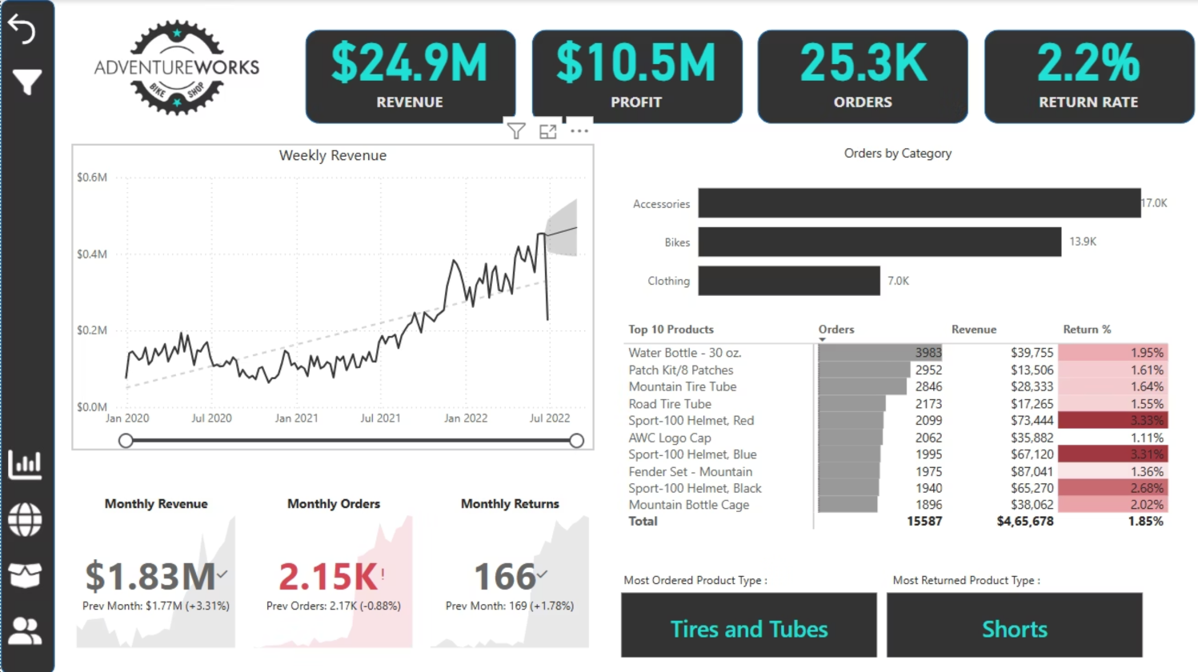

The page's visual inventory and layout, read from the dashboard file:
{"tool":"powerbi","page":{"name":"Excel Dashboard","canvas":[1280,720],"ordinal":0},"visuals":[{"type":"image","title":"A Logo","box":[76.1,0,224.8,145.1],"z":0},{"type":"card","fields":{"Values":["Measure Table.Total Revenue"]},"box":[319,1.2,235.2,137.1],"z":0,"group":"g2"},{"type":"group","id":"g1","title":"KPI Background","box":[325.3,31.7,950.1,100.3],"z":0,"group":"g3"},{"type":"shape","box":[325.3,31.7,225,100.3],"z":0,"group":"g1"},{"type":"actionButton","box":[4,474.7,50.4,44.3],"z":0,"group":"g4"},{"type":"shape","title":"Left KPI","box":[0,0,57.5,720.2],"z":1000},{"type":"group","id":"g2","title":"KPI CARDS","box":[319,1.2,960.9,137],"z":1000,"group":"g3"},{"type":"card","fields":{"Values":["Measure Table.Total Profit"]},"box":[560.9,1.2,235.2,137.1],"z":1000,"group":"g2"},{"type":"shape","box":[567,31.7,225,100.3],"z":1000,"group":"g1"},{"type":"actionButton","box":[4,533.8,50.4,44.3],"z":1000,"group":"g4"},{"type":"group","id":"g3","title":"All KPI","box":[319,1.2,960.9,137],"z":2000},{"type":"card","fields":{"Values":["Measure Table.Order Target"]},"box":[802.8,1.2,235.2,137.1],"z":2000,"group":"g2"},{"type":"shape","box":[808.7,31.7,225,100.3],"z":2000,"group":"g1"},{"type":"actionButton","box":[4,593,50.4,44.3],"z":2000,"group":"g4"},{"type":"card","fields":{"Values":["Measure Table.Return rate"]},"box":[1044.7,1.2,235.2,137.1],"z":3000,"group":"g2"},{"type":"shape","box":[1050.4,31.7,225,100.3],"z":3000,"group":"g1"},{"type":"lineChart","title":"Weekly Revenue","fields":{"Y":["Measure Table.Total Revenue"],"Category":["Calendar Lookup.Start of Week"]},"box":[75.4,153.6,557.5,327.1],"z":3000},{"type":"actionButton","box":[4,652.1,50.4,44.3],"z":3000,"group":"g4"},{"type":"kpi","title":"Monthly Revenue","fields":{"Indicator":["Measure Table.Total Revenue"],"TrendLine":["Calendar Lookup.Start of Month"],"Goal":["Measure Table.Previous Month Revenue"]},"box":[75.8,528.3,179.8,168.8],"z":4000},{"type":"kpi","title":"Monthly Orders","fields":{"TrendLine":["Calendar Lookup.Start of Month"],"Indicator":["Measure Table.Total Orders"],"Goal":["Measure Table.Previous Month orders"]},"box":[265.4,528.3,179.8,168.8],"z":5000},{"type":"kpi","title":"Monthly Returns","fields":{"TrendLine":["Calendar Lookup.Start of Month"],"Indicator":["Measure Table.Total Returns"],"Goal":["Measure Table.Previous Month Returns"]},"box":[453.7,528.3,179.8,168.8],"z":6000},{"type":"barChart","title":"Orders by Category","fields":{"Category":["Product Categories Lookup.CategoryName"],"Y":["Measure Table.Total Orders"]},"box":[665.2,154.1,585.7,184.6],"z":7000},{"type":"pivotTable","fields":{"Rows":["Product Lookup.ProductName"],"Values":["Measure Table.Total Orders","Measure Table.Total Revenue","Measure Table.Return rate"]},"box":[660.3,338.7,593.1,239.7],"z":8000},{"type":"cardVisual","fields":{"Data":["Min(Product Subcategories Lookup.SubcategoryName)"]},"box":[657.9,628.5,283.7,79.5],"z":9000},{"type":"textbox","box":[660.3,605.3,178.5,45.2],"z":10000},{"type":"cardVisual","fields":{"Data":["Min(Product Subcategories Lookup.SubcategoryName)"]},"box":[941.6,628.5,283.7,79.5],"z":11000},{"type":"textbox","box":[947.7,605.3,178.5,45.2],"z":12000},{"type":"actionButton","box":[0,9,57.3,43.9],"z":13000},{"type":"group","id":"g4","title":"Navigator Buttons","box":[4,474.7,50.4,221.7],"z":14000},{"type":"actionButton","box":[8.1,61.5,39.3,53.4],"z":15000}]}

Visuals, with their boxes on the page's 1280x720 design canvas (x1, y1, x2, y2). These are canvas units, not pixel positions in the 1198x672 screenshot, which may show the page scaled, cropped or inside an application window:
"A Logo" image: box=[76, 0, 301, 145]
card - Measure Table.Total Revenue: box=[319, 1, 554, 138]
"KPI Background" group: box=[325, 32, 1275, 132]
shape: box=[325, 32, 550, 132]
actionButton: box=[4, 475, 54, 519]
"Left KPI" shape: box=[0, 0, 58, 720]
"KPI CARDS" group: box=[319, 1, 1280, 138]
card - Measure Table.Total Profit: box=[561, 1, 796, 138]
shape: box=[567, 32, 792, 132]
actionButton: box=[4, 534, 54, 578]
"All KPI" group: box=[319, 1, 1280, 138]
card - Measure Table.Order Target: box=[803, 1, 1038, 138]
shape: box=[809, 32, 1034, 132]
actionButton: box=[4, 593, 54, 637]
card - Measure Table.Return rate: box=[1045, 1, 1280, 138]
shape: box=[1050, 32, 1275, 132]
"Weekly Revenue" lineChart: box=[75, 154, 633, 481]
actionButton: box=[4, 652, 54, 696]
"Monthly Revenue" kpi: box=[76, 528, 256, 697]
"Monthly Orders" kpi: box=[265, 528, 445, 697]
"Monthly Returns" kpi: box=[454, 528, 634, 697]
"Orders by Category" barChart: box=[665, 154, 1251, 339]
pivotTable - Product Lookup.ProductName x Measure Table.Total Orders: box=[660, 339, 1253, 578]
cardVisual - Min(Product Subcategories Lookup.SubcategoryName): box=[658, 628, 942, 708]
textbox: box=[660, 605, 839, 650]
cardVisual - Min(Product Subcategories Lookup.SubcategoryName): box=[942, 628, 1225, 708]
textbox: box=[948, 605, 1126, 650]
actionButton: box=[0, 9, 57, 53]
"Navigator Buttons" group: box=[4, 475, 54, 696]
actionButton: box=[8, 62, 47, 115]
